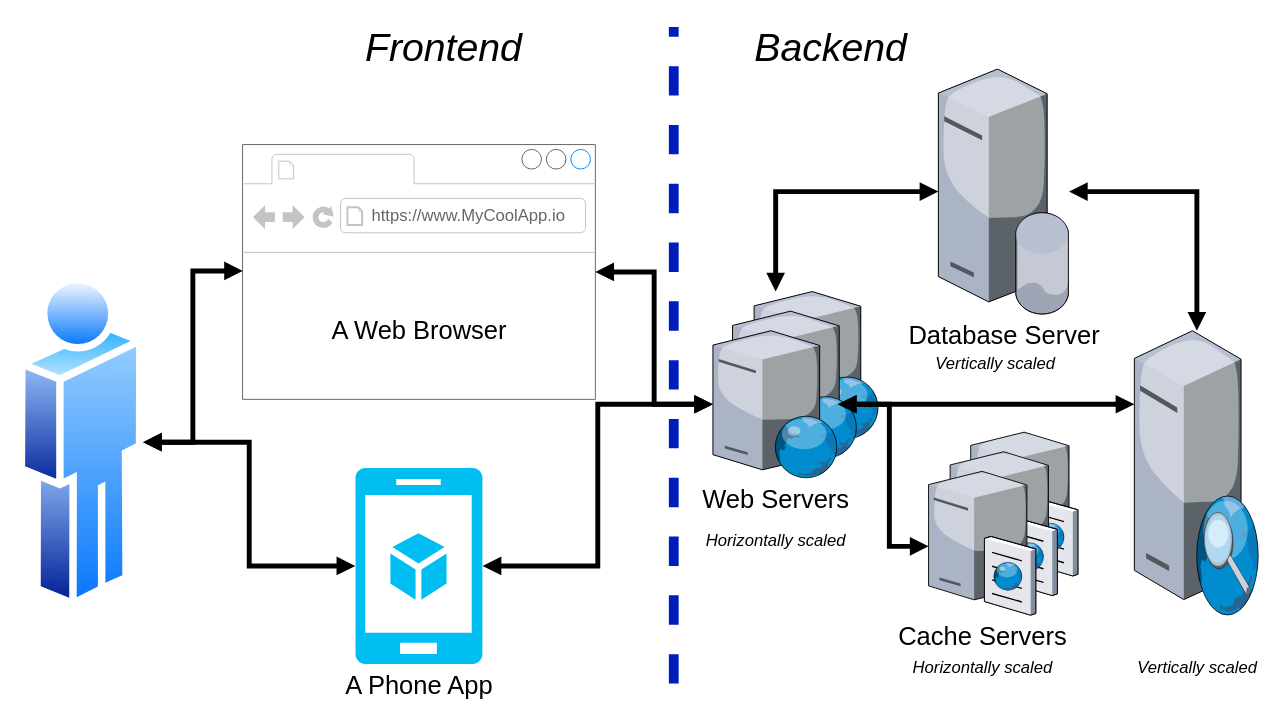
The diagram is 1287 pixels wide and 717 high, and some of its shapes have lost their labels. Here are the shapes that lost their labels. From the top down, the centre of each, then its label:
pixel 354 168: Page 1
pixel 80 441: A User
pixel 1196 472: LLM Server
